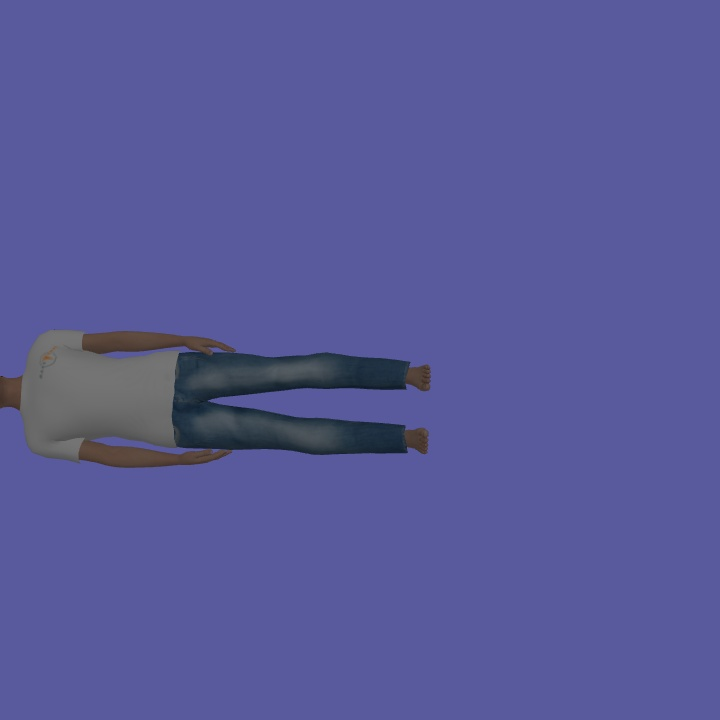victim: (1, 324, 432, 471)
